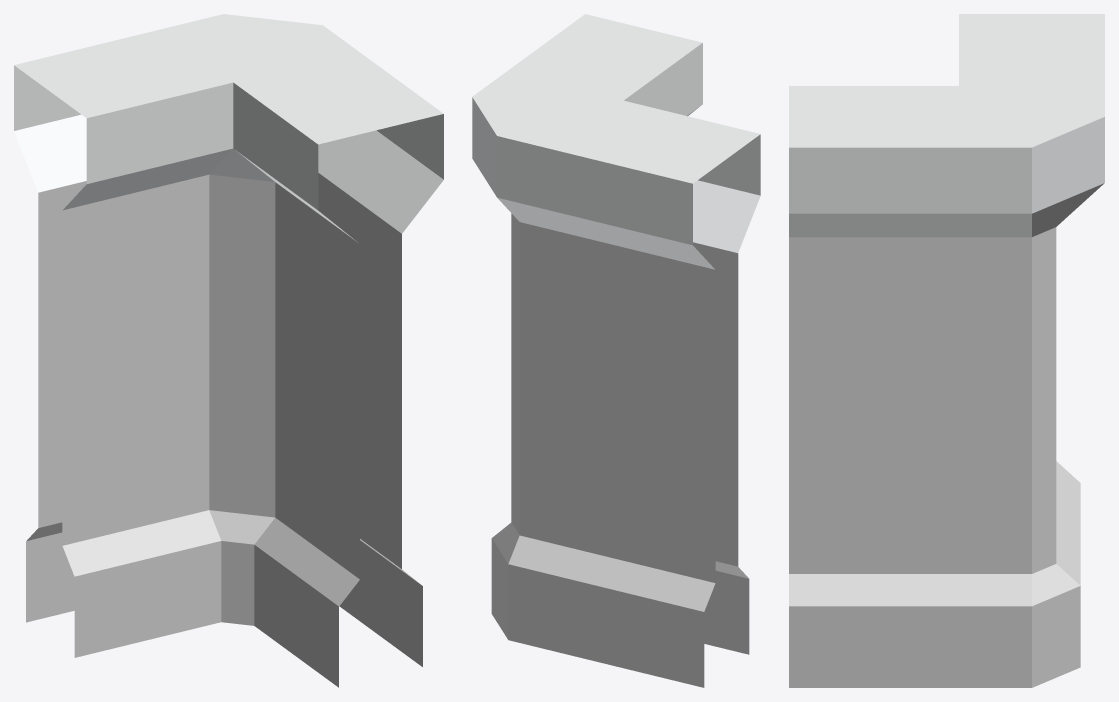
The model's file is wall_s_s.fbx.
The picture shows the model from 3 angles, left to right: view 1: azimuth 30°, elevation 25°; view 2: azimuth 150°, elevation 25°; view 3: azimuth 270°, elevation 25°; orthographic projection. The views are drawn at different scales.
Parts seen in each view (by area): view 1: wall_s_s; view 2: wall_s_s; view 3: wall_s_s.
Boxes of the visible parts, left/top/right/bottom form: wall_s_s: left=14, top=14, right=443, bottom=687; wall_s_s: left=472, top=14, right=760, bottom=687; wall_s_s: left=789, top=14, right=1104, bottom=687.
Bounding box in the file's own units: 1.3 × 2.5 × 1.3.
